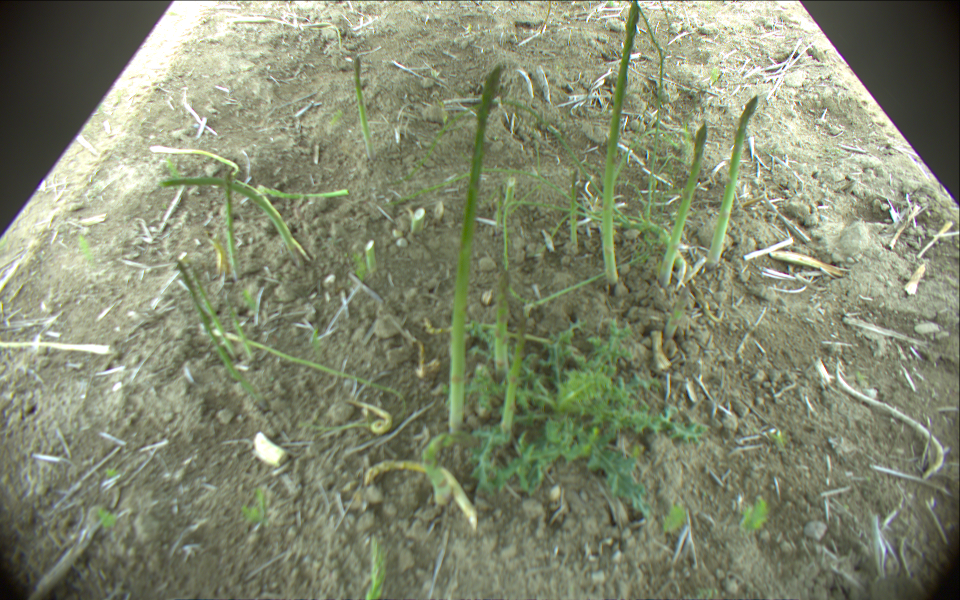aspa: (447, 60, 507, 435), (210, 329, 409, 418), (173, 258, 256, 401), (158, 177, 293, 257), (603, 1, 641, 285), (707, 96, 757, 267), (656, 123, 707, 284), (188, 259, 235, 359), (226, 14, 343, 47), (149, 145, 242, 177), (500, 321, 526, 435), (353, 57, 375, 159), (494, 263, 512, 378), (366, 461, 442, 484), (1, 340, 112, 355), (222, 170, 238, 272), (228, 309, 254, 361), (250, 186, 349, 197), (569, 168, 579, 252), (364, 240, 378, 277), (413, 209, 426, 232)
